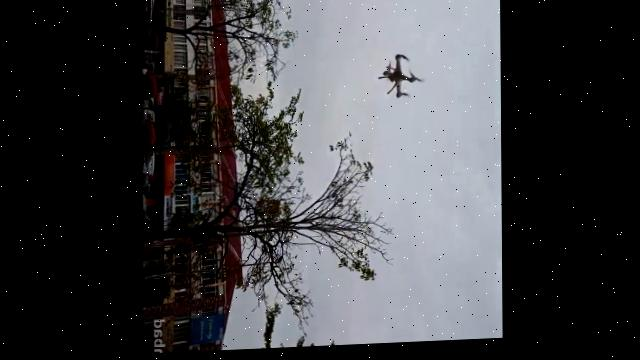drone: (374, 57, 423, 107)
